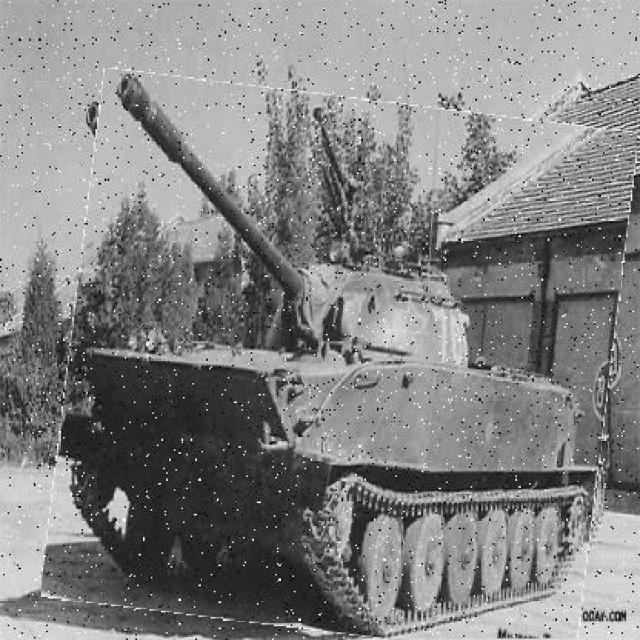Tank: (57, 84, 628, 640)
